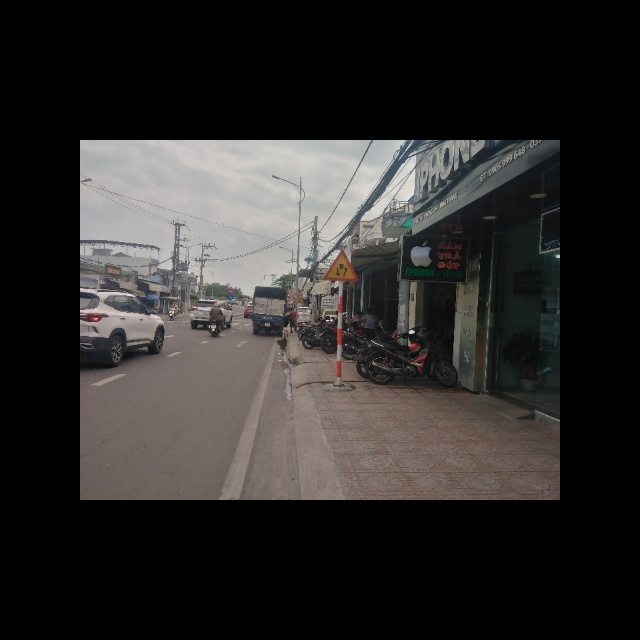Đường đôi: (323, 248, 360, 281)
